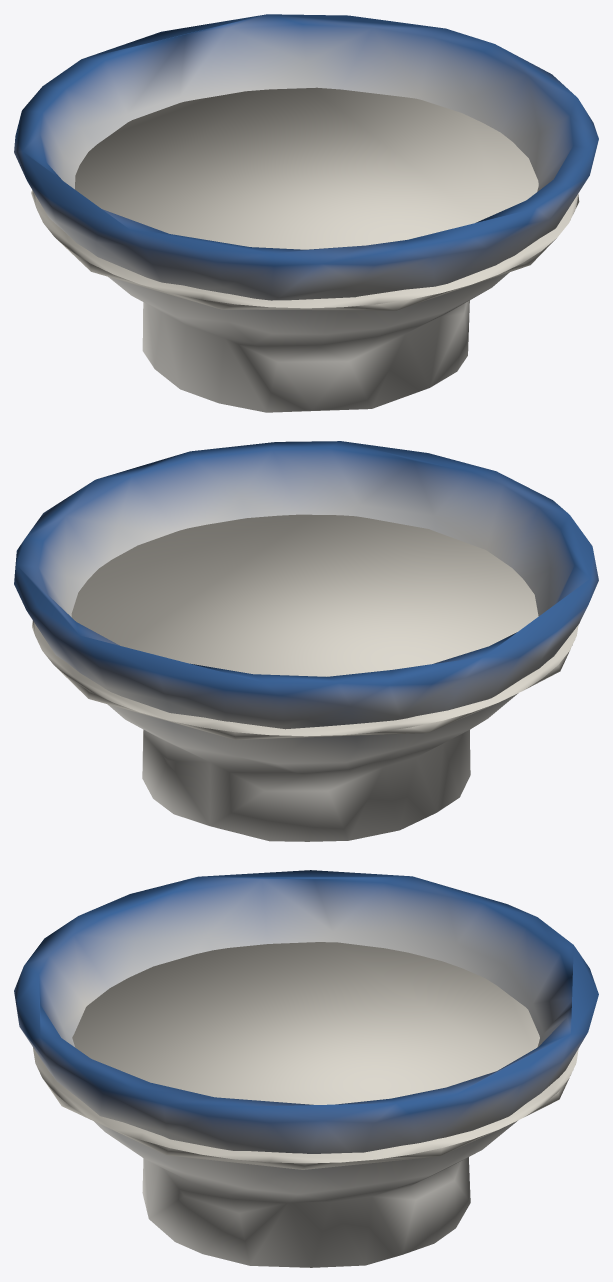
File: chen_sua.glb
The picture shows the model from 3 angles, top to bottom: view 1: azimuth 30°, elevation 25°; view 2: azimuth 150°, elevation 25°; view 3: azimuth 270°, elevation 25°; orthographic projection.
Parts seen in each view (by area): view 1: chen_sua; view 2: chen_sua; view 3: chen_sua.
Part boxes in pixels (bbox=[...]): chen_sua: bbox=[14, 14, 598, 412]; chen_sua: bbox=[14, 441, 598, 841]; chen_sua: bbox=[14, 870, 598, 1267].
Size of the model in its own units: 0.1248 by 0.0498 by 0.1243.
